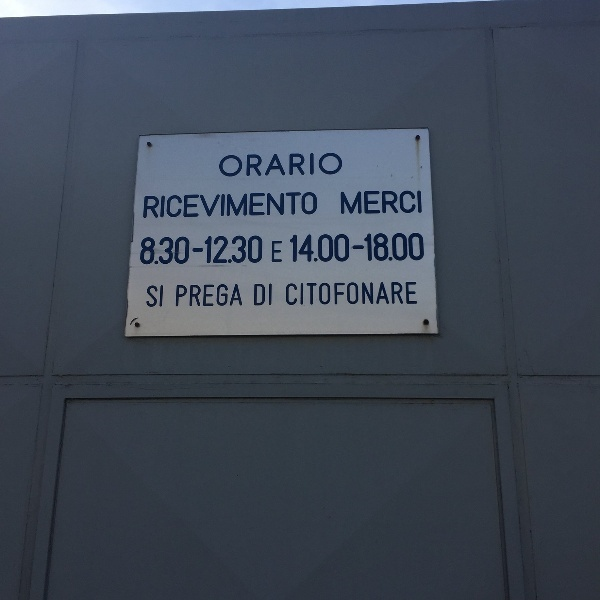text: (145, 235, 160, 266), (161, 235, 176, 266), (177, 235, 192, 266), (193, 235, 208, 266), (209, 235, 224, 266), (225, 235, 240, 266), (241, 235, 256, 266), (289, 233, 304, 263), (305, 233, 320, 263), (321, 233, 336, 263), (337, 233, 352, 263), (353, 233, 368, 263), (369, 233, 384, 263), (385, 233, 400, 263), (401, 233, 416, 263), (145, 192, 160, 220), (161, 192, 176, 220), (177, 192, 192, 220), (193, 192, 208, 220), (209, 192, 224, 220), (225, 192, 240, 220), (241, 192, 256, 220), (257, 192, 272, 220), (273, 192, 288, 220), (289, 192, 304, 220), (225, 153, 240, 178), (241, 153, 256, 178), (257, 153, 272, 178), (273, 153, 288, 178), (289, 153, 304, 178), (305, 153, 320, 178), (321, 153, 336, 178), (353, 190, 368, 215), (369, 190, 384, 215), (385, 190, 400, 215), (401, 190, 416, 215), (289, 282, 304, 306), (305, 282, 320, 306), (321, 282, 336, 306), (337, 282, 352, 306), (353, 282, 368, 306), (369, 282, 384, 306), (385, 282, 400, 306), (401, 282, 416, 306), (177, 284, 192, 307), (193, 284, 208, 307), (209, 284, 224, 307), (225, 284, 240, 307), (305, 192, 317, 220), (257, 284, 272, 306), (340, 190, 352, 215), (147, 285, 160, 308), (417, 233, 425, 263), (273, 241, 283, 263), (257, 235, 263, 266), (337, 153, 343, 178), (219, 153, 224, 178), (417, 190, 422, 215), (161, 285, 164, 308), (142, 235, 144, 266), (286, 282, 288, 306), (241, 284, 243, 307), (417, 282, 418, 306), (255, 284, 256, 306)
